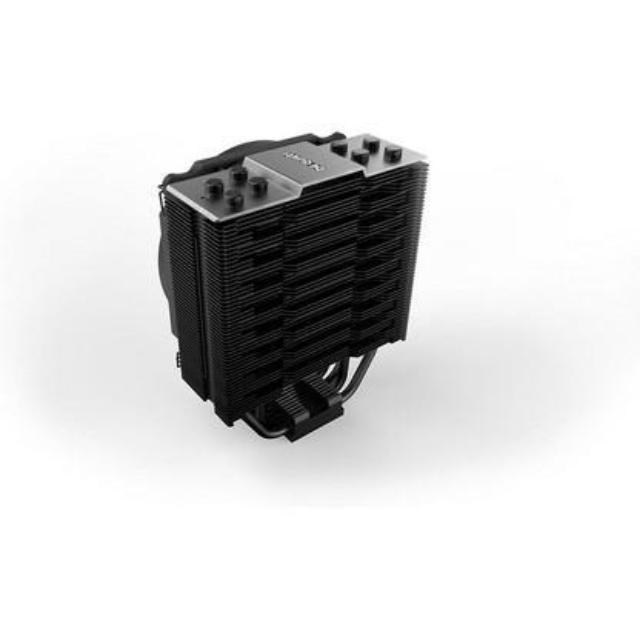CPU_Fan: (154, 128, 426, 446)
